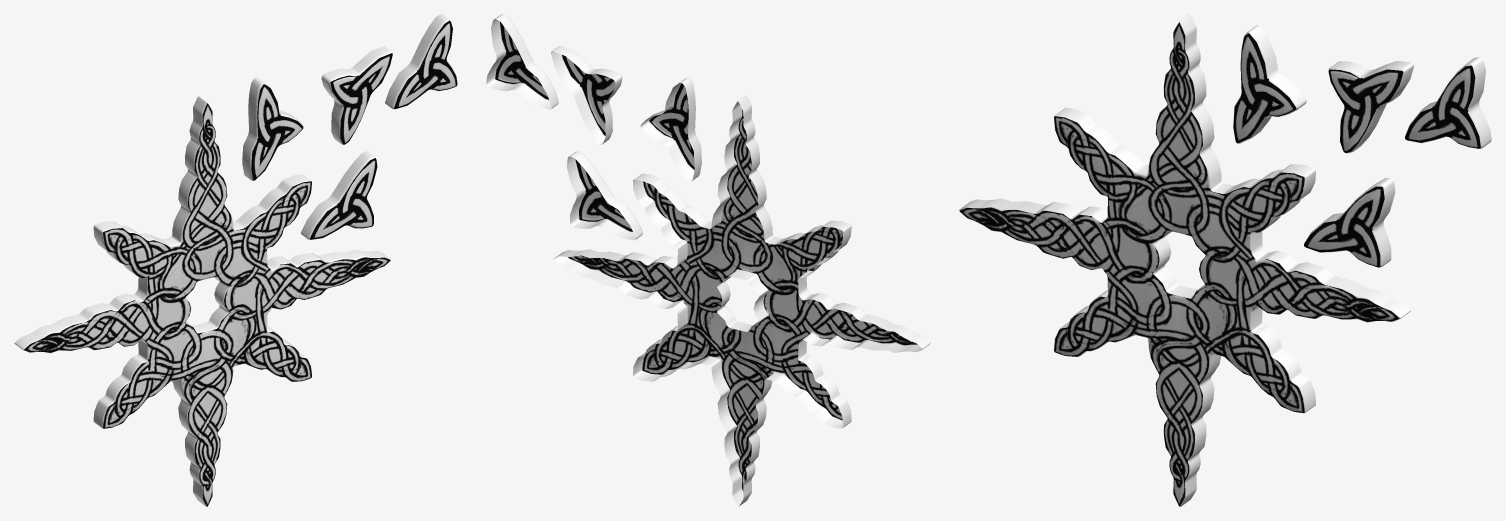
Rendered from Star.fbx.
The picture shows the model from 3 angles, left to right: view 1: azimuth 30°, elevation 25°; view 2: azimuth 150°, elevation 25°; view 3: azimuth 330°, elevation 25°; orthographic projection. The views are drawn at different scales.
Parts seen in each view (by area): view 1: Plane.001; view 2: Plane.001; view 3: Plane.001.
Boxes of the visible parts, x1=… form: Plane.001: x1=14, y1=14, x2=457, y2=506; Plane.001: x1=486, y1=14, x2=930, y2=506; Plane.001: x1=959, y1=14, x2=1491, y2=506.
Bounding box in the file's own units: 125 × 117 × 4.59.
